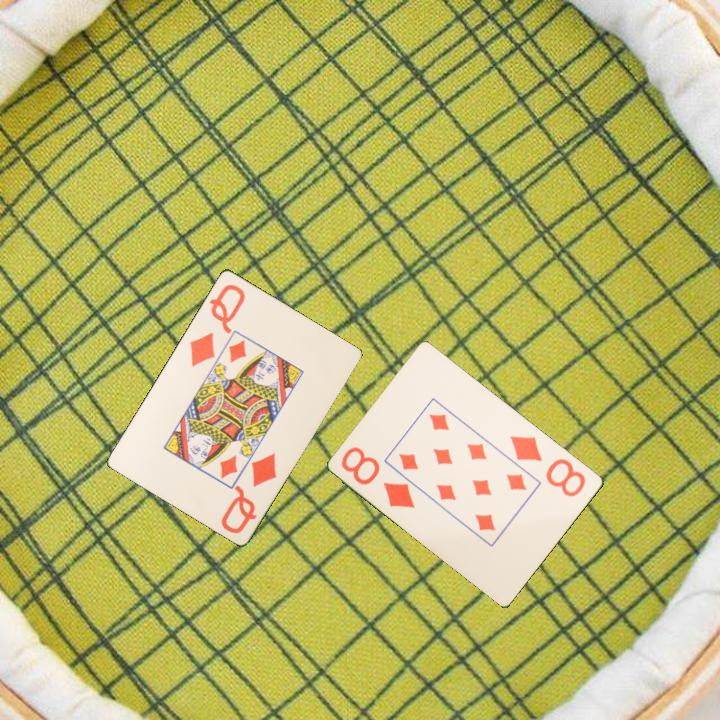8d: (507, 432, 589, 500), (338, 443, 418, 511)
Qd: (186, 280, 248, 370), (217, 449, 280, 536)
